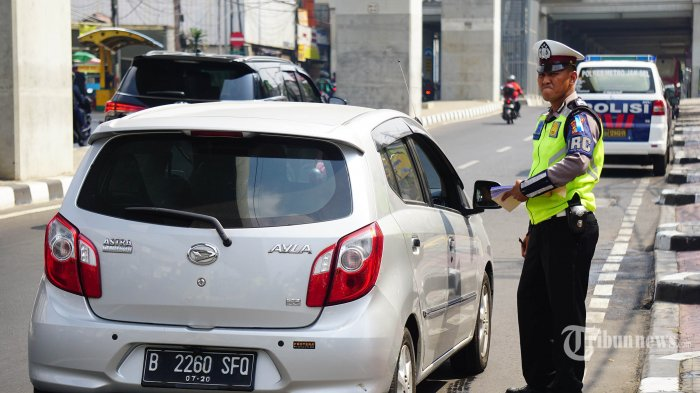plate: (144, 346, 252, 392), (602, 128, 626, 138)
